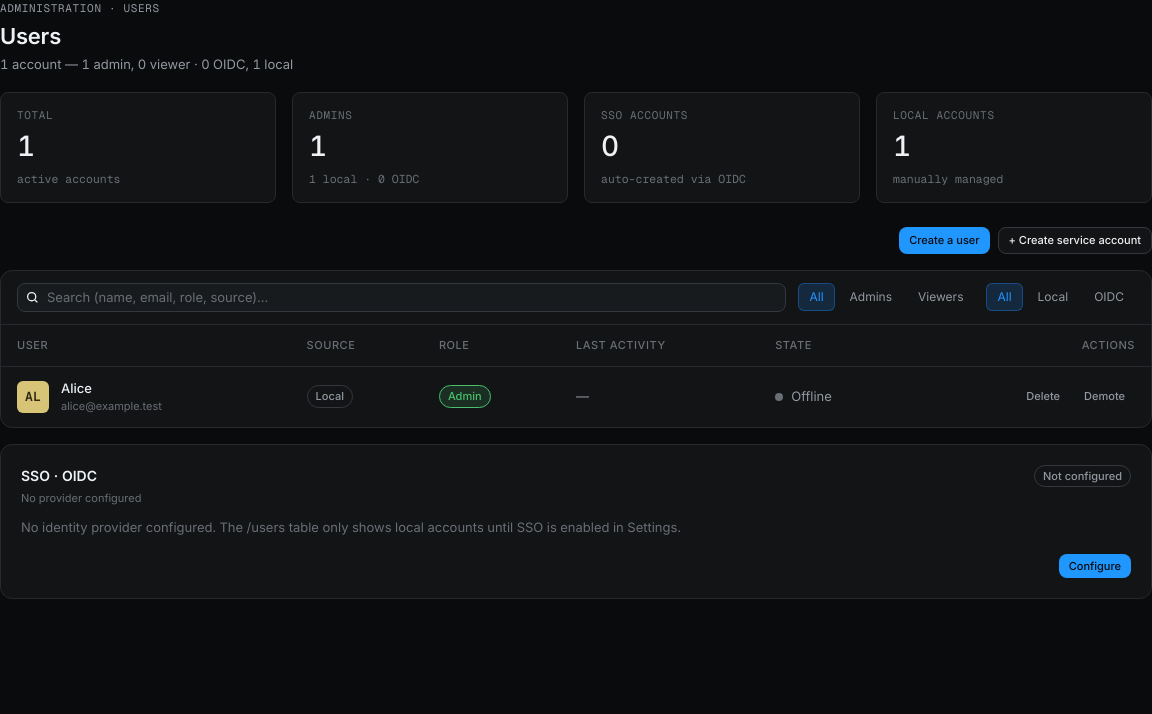
Scenario: /utilisateurs — empty state › explains an over-narrow filter and clears it on demand
The image size is (1152, 714).
Check: the row with test id "user-row-u1" is shown, box 1,366 -> 1151,427
Type "zzzzz" into the search field named "Filter users" at (412, 297), box 47,288 -> 778,307
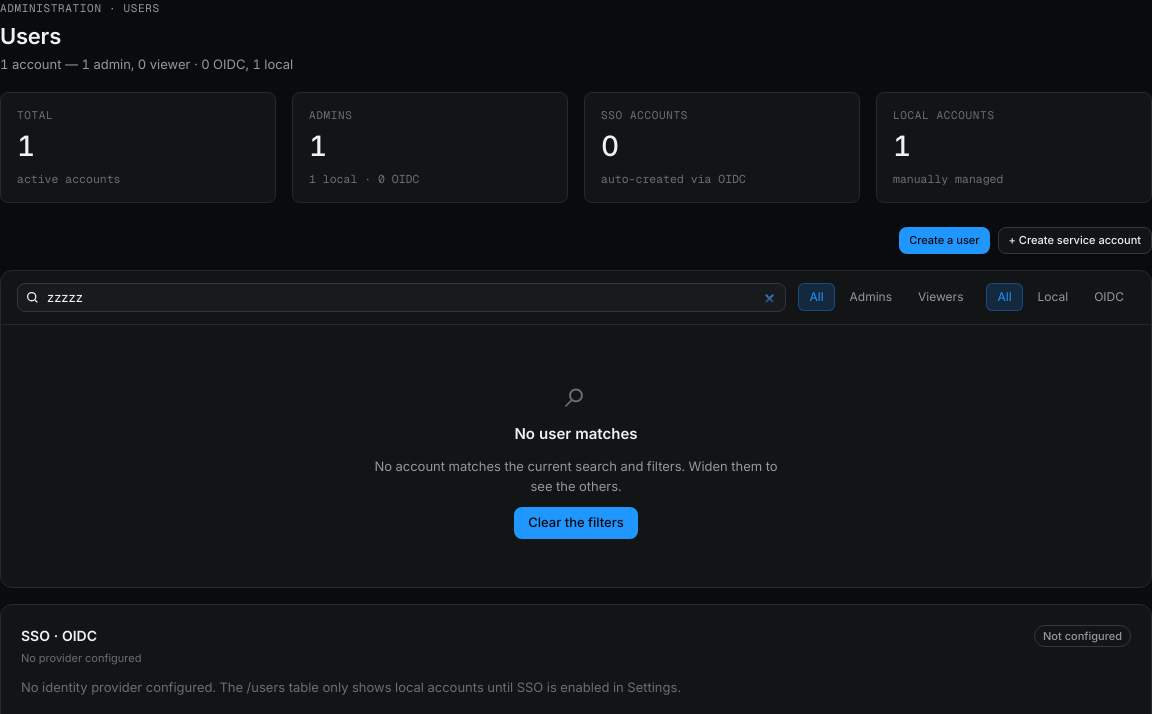
Check: the element with test id "users-empty" is shown, box 374,368 -> 778,539
Check: the element with test id "users-empty" shows "filter", box 374,458 -> 778,494
Click the button "Clear the filters" at (576, 523), box 514,507 -> 638,539
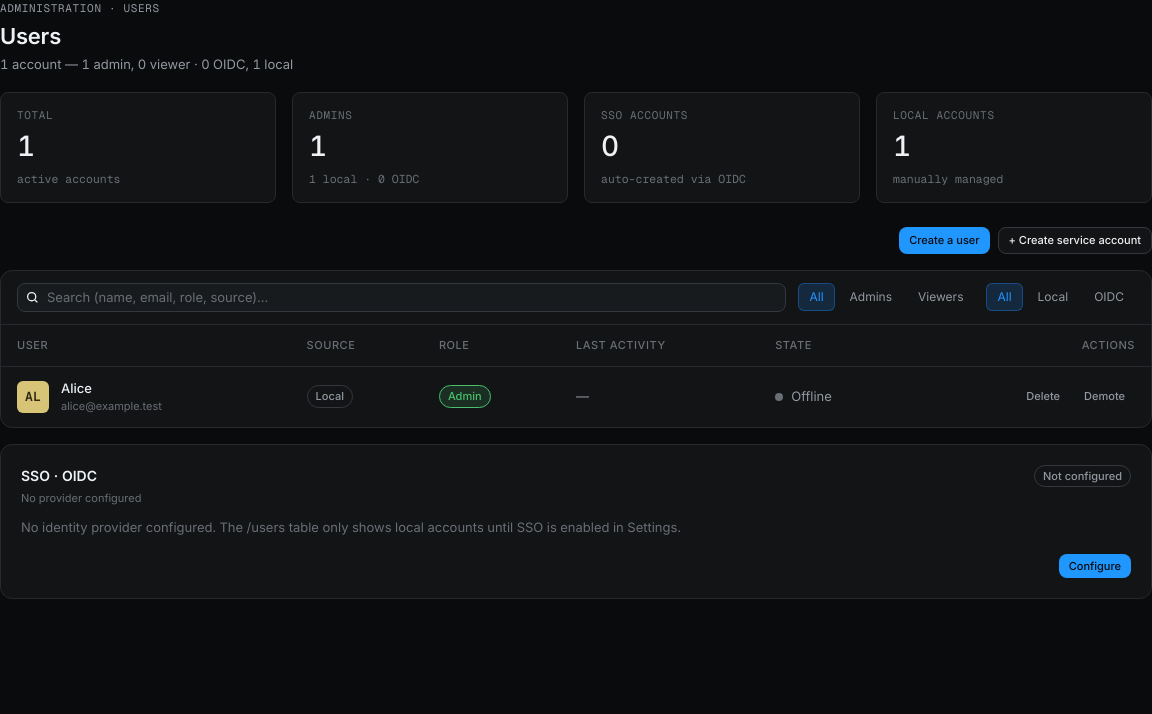
Check: the row with test id "user-row-u1" is shown, box 1,366 -> 1151,427
Check: the search field named "Filter users" is empty, box 47,288 -> 778,307
